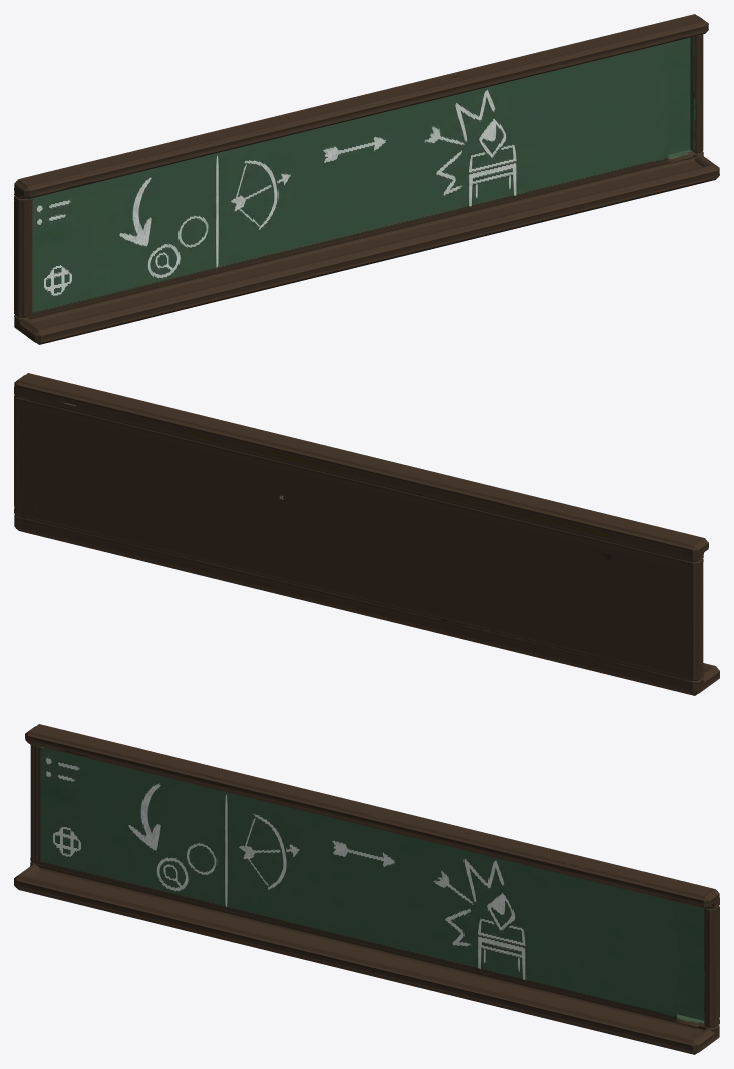
Rendered from chalkboard.glb.
3 views of the same model, one above another, from view 1: azimuth 30°, elevation 25°; view 2: azimuth 150°, elevation 25°; view 3: azimuth 330°, elevation 25° (orthographic).
Visible parts, largest first — view 1: node_id4, node_id6; view 2: node_id6; view 3: node_id4, node_id6.
Part boxes in pixels (x1=…): node_id4: x1=27, y1=44, x2=668, y2=318; node_id6: x1=14, y1=14, x2=719, y2=344; node_id6: x1=14, y1=373, x2=719, y2=695; node_id4: x1=36, y1=747, x2=676, y2=1021; node_id6: x1=14, y1=724, x2=719, y2=1054.
Bounding box in the file's own units: 0.512 × 0.1076 × 0.0324.
2 materials, 2 textured.
